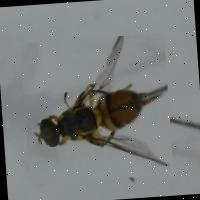Oriental-fruit-fly: (18, 32, 172, 184)
